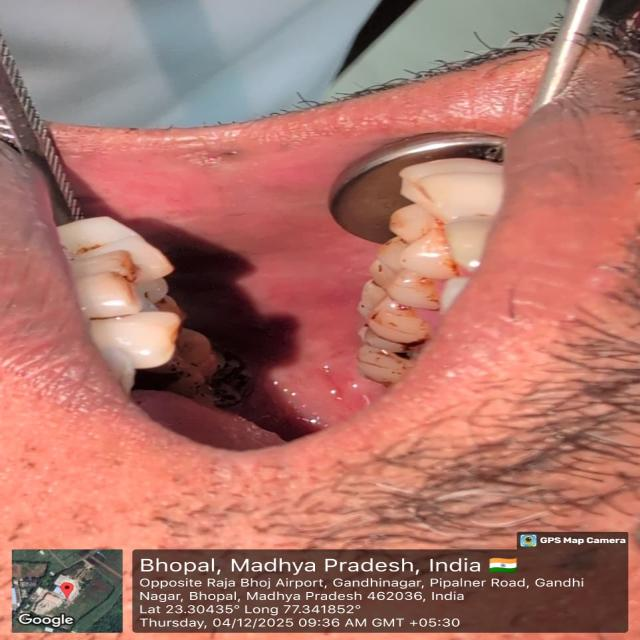processing_area: (74, 100, 493, 447)
